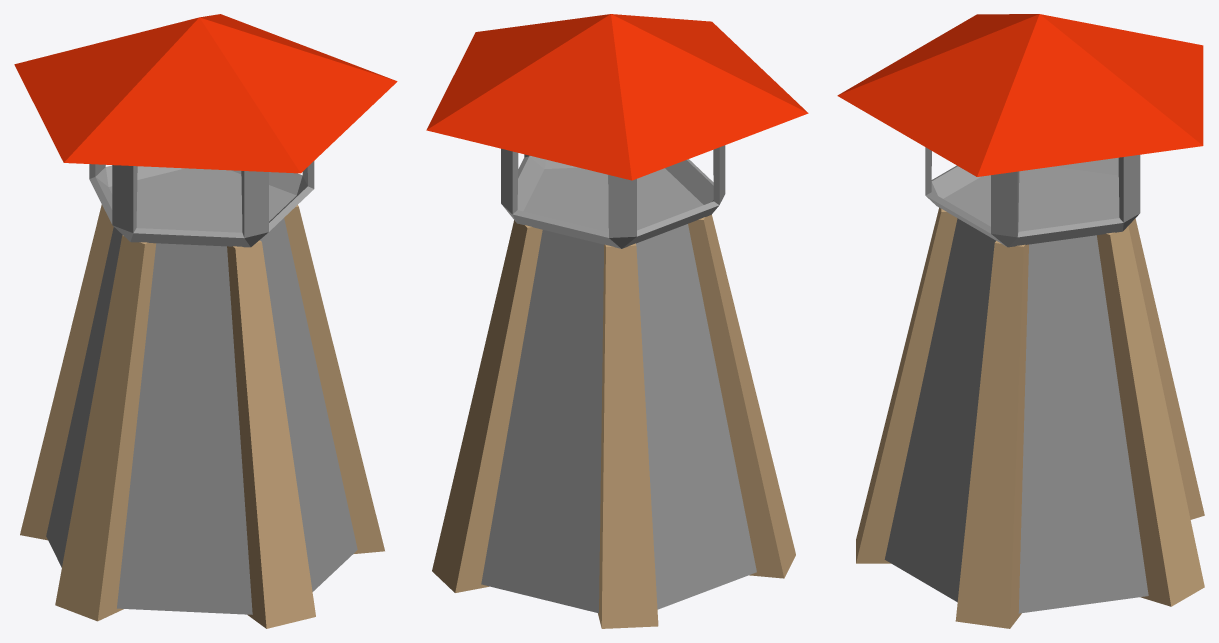
The model's file is Tower proto.glb.
3 renders of one model, left to right at view 1: azimuth 30°, elevation 25°; view 2: azimuth 150°, elevation 25°; view 3: azimuth 270°, elevation 25°, orthographic.
Parts seen in each view (by area): view 1: Cylinder; view 2: Cylinder; view 3: Cylinder.
Part boxes in pixels (left/top/right/bottom): Cylinder: left=14, top=14, right=397, bottom=628; Cylinder: left=426, top=14, right=808, bottom=628; Cylinder: left=837, top=14, right=1204, bottom=628.
Size of the model in its own units: 1.64 by 2.52 by 1.56.
